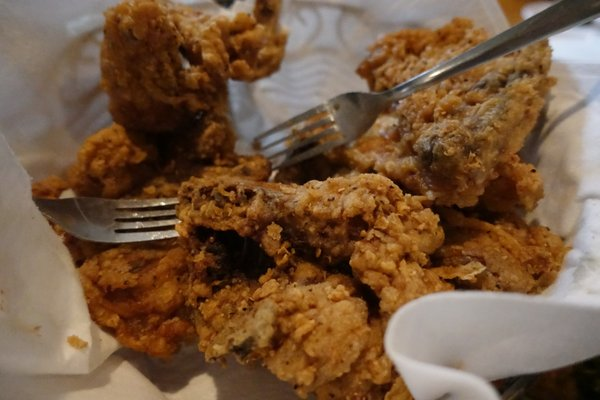burger: (250, 0, 599, 173), (33, 192, 180, 244)
salad: (247, 0, 600, 171)
sushi: (384, 290, 600, 396)
